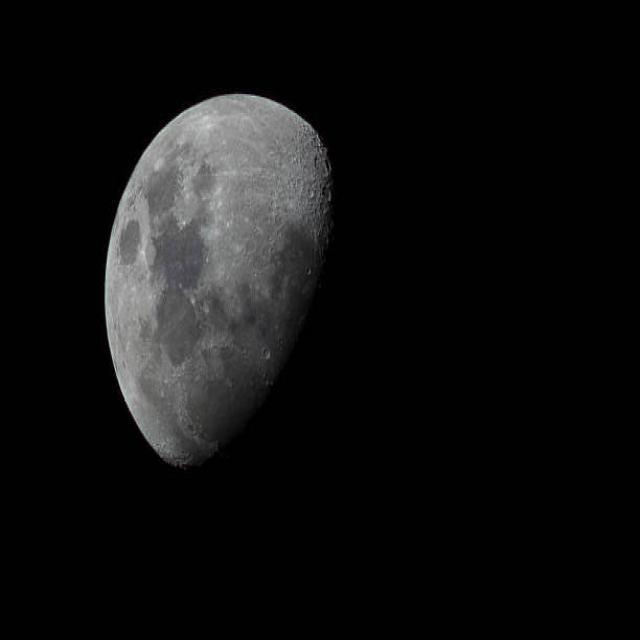moon: (95, 62, 368, 530)
